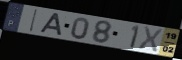0: (68, 17, 91, 41)
1: (129, 25, 140, 50)
8: (90, 20, 113, 44)
A: (38, 12, 63, 37)
I: (28, 8, 40, 33)
X: (137, 25, 165, 53)
